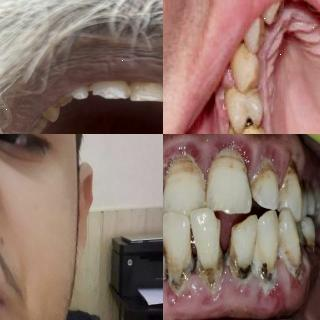Gum Swelling: (163, 255, 294, 316), (163, 134, 292, 189)
calculus: (253, 238, 279, 296), (281, 233, 305, 292), (224, 242, 252, 292), (199, 257, 227, 301), (172, 254, 196, 296), (166, 145, 200, 173), (282, 148, 302, 176), (258, 153, 274, 175), (163, 249, 169, 297)
cavities: (240, 111, 264, 134)
maligned: (210, 137, 253, 219), (186, 198, 224, 284), (163, 149, 207, 213), (163, 207, 197, 283), (278, 204, 302, 278), (250, 156, 278, 208), (280, 158, 304, 217), (241, 15, 269, 50), (257, 0, 286, 28)
